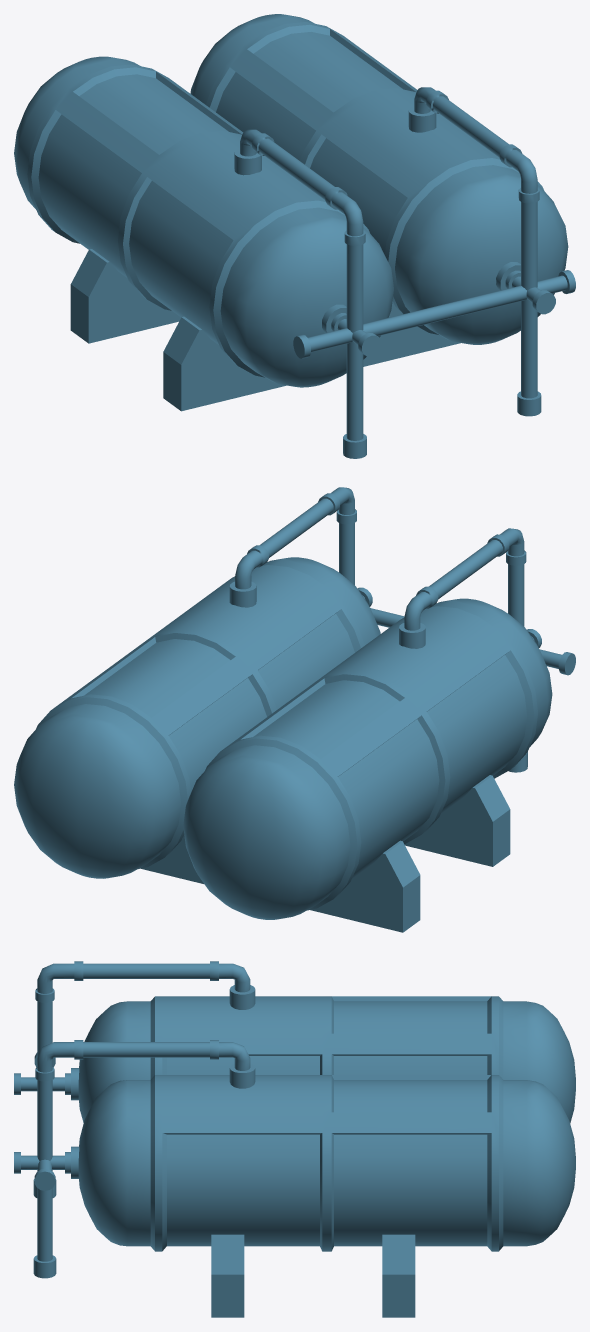
File: GJ_Decor_Tank_02.fbx
3 renders of one model, top to bottom at view 1: azimuth 30°, elevation 25°; view 2: azimuth 150°, elevation 25°; view 3: azimuth 270°, elevation 25°, orthographic. The views are drawn at different scales.
Parts seen in each view (by area): view 1: GJ_Decor_Tank_02; view 2: GJ_Decor_Tank_02; view 3: GJ_Decor_Tank_02.
Part boxes in pixels (x1,y1,x2,y2): GJ_Decor_Tank_02: [14, 14, 575, 458]; GJ_Decor_Tank_02: [14, 487, 575, 932]; GJ_Decor_Tank_02: [14, 961, 575, 1317].
Bounding box in the file's own units: 27.98 × 19.48 × 42.16.
